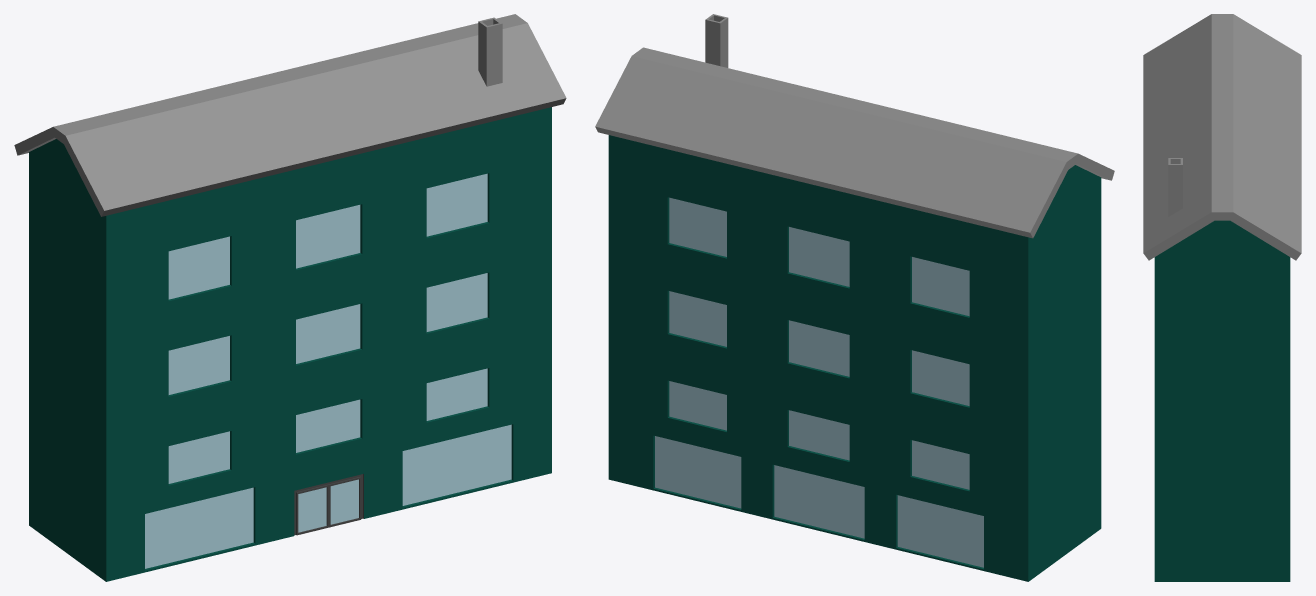
File: M_Immeuble_02.FBX
The picture shows the model from 3 angles, left to right: view 1: azimuth 30°, elevation 25°; view 2: azimuth 150°, elevation 25°; view 3: azimuth 270°, elevation 25°; orthographic projection. The views are drawn at different scales.
Visible parts, largest first — view 1: Box001; view 2: Box001; view 3: Box001.
Part boxes in pixels (bbox=[...]): Box001: bbox=[14, 14, 566, 581]; Box001: bbox=[595, 14, 1114, 581]; Box001: bbox=[1143, 14, 1301, 581].
Bounding box in the file's own units: 10.37 × 3.49 × 9.73.
